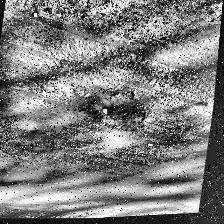pothole: (65, 80, 153, 138)
